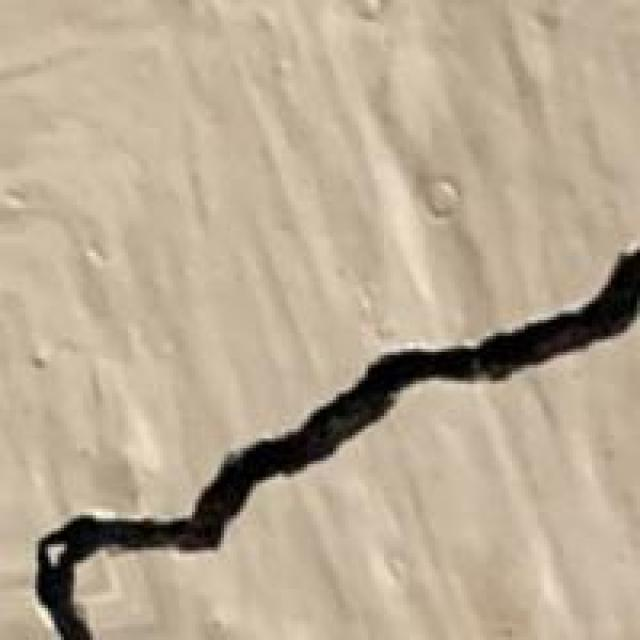Crack: (10, 250, 637, 637)
